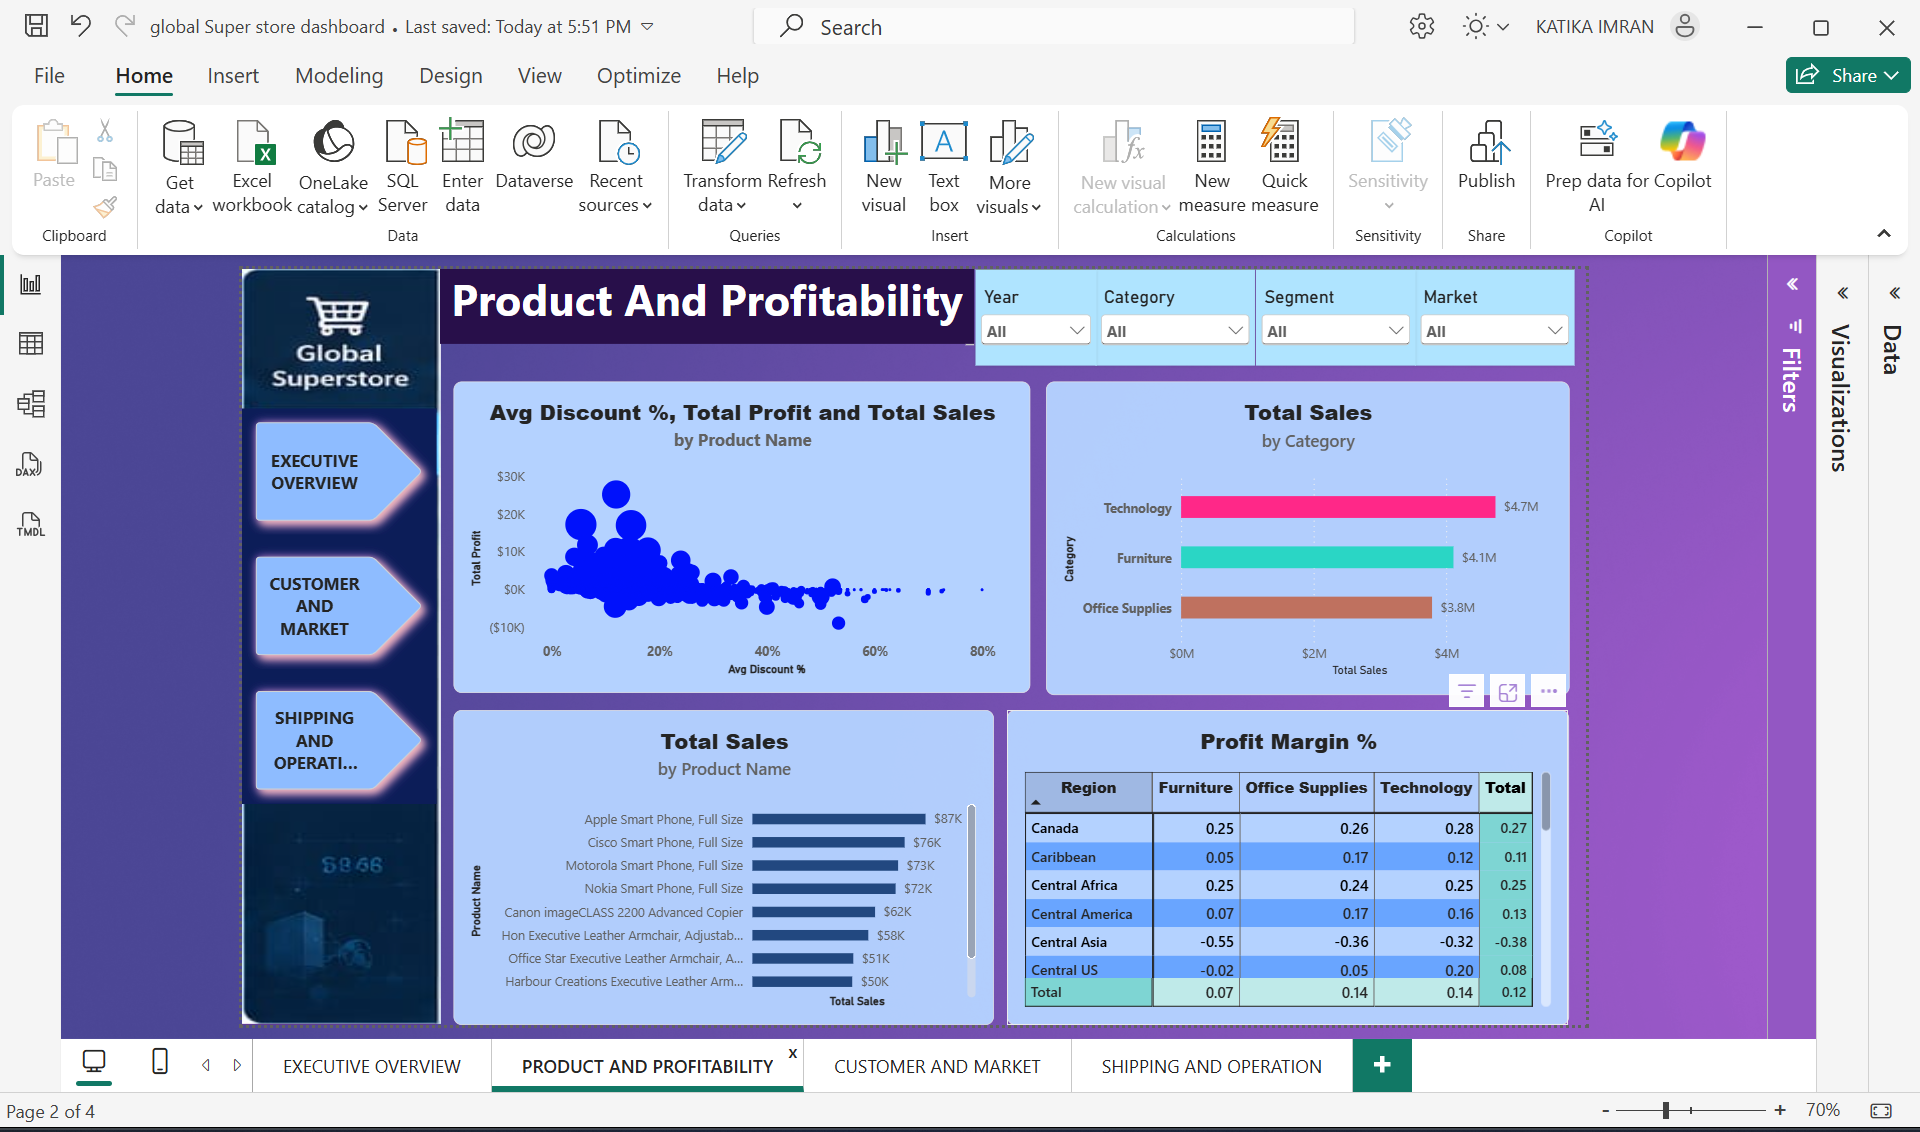

This screenshot's page, from the dashboard's own definition file:
{"tool":"powerbi","page":{"name":"PRODUCT AND PROFITABILITY","canvas":[1280,720],"ordinal":1},"visuals":[{"type":"clusteredBarChart","fields":{"Category":["Orders.Category","Orders.Sub-Category"],"Y":["_Measures.Total Sales"]},"box":[765,106.7,498.3,298.3],"z":0},{"type":"scatterChart","fields":{"Category":["Orders.Product Name"],"Size":["_Measures.Total Sales"],"X":["_Measures.Avg Discount %"],"Y":["_Measures.Total Profit"]},"box":[202.1,107.4,549.5,296.8],"z":1000},{"type":"clusteredBarChart","fields":{"Category":["Orders.Product Name"],"Y":["_Measures.Total Sales"]},"box":[202.1,420,514.7,300],"z":2000},{"type":"pivotTable","title":" Profit Margin %","fields":{"Columns":["Orders.Category"],"Rows":["Orders.Region"],"Values":["_Measures.Profit Margin %"]},"box":[727.9,420,535.3,300],"z":3000},{"type":"slicer","fields":{"Values":["Orders.Category"]},"box":[813.3,0,151.7,91.7],"z":6000},{"type":"slicer","fields":{"Values":["Orders.Market"]},"box":[1116.7,0,151.7,91.7],"z":7000},{"type":"slicer","fields":{"Values":["Orders.Segment"]},"box":[965,0,151.7,91.7],"z":8000},{"type":"slicer","fields":{"Values":["Date.Year"]},"box":[698.3,0,115,91.7],"z":9000},{"type":"pageNavigator","box":[0,132.6,189.5,405.8],"z":10000},{"type":"shape","box":[0,0,184.7,720],"z":11000},{"type":"actionButton","box":[0,0,189.5,718.4],"z":12000},{"type":"pageNavigator","box":[0,133.3,185,376.7],"z":13000},{"type":"textbox","title":"Product And Profitability","box":[189.3,0,508.8,72.7],"z":14000}]}

Visuals, with their boxes on the page's 1280x720 design canvas (x1, y1, x2, y2). These are canvas units, not pixel positions in the 1920x1132 screenshot, which may show the page scaled, cropped or inside an application window:
clusteredBarChart - Orders.Category x Orders.Sub-Category: Rect(765, 107, 1263, 405)
scatterChart - Orders.Product Name x _Measures.Total Sales: Rect(202, 107, 752, 404)
clusteredBarChart - Orders.Product Name x _Measures.Total Sales: Rect(202, 420, 717, 720)
" Profit Margin %" pivotTable: Rect(728, 420, 1263, 720)
slicer - Orders.Category: Rect(813, 0, 965, 92)
slicer - Orders.Market: Rect(1117, 0, 1268, 92)
slicer - Orders.Segment: Rect(965, 0, 1117, 92)
slicer - Date.Year: Rect(698, 0, 813, 92)
pageNavigator: Rect(0, 133, 190, 538)
shape: Rect(0, 0, 185, 720)
actionButton: Rect(0, 0, 190, 718)
pageNavigator: Rect(0, 133, 185, 510)
"Product And Profitability" textbox: Rect(189, 0, 698, 73)
